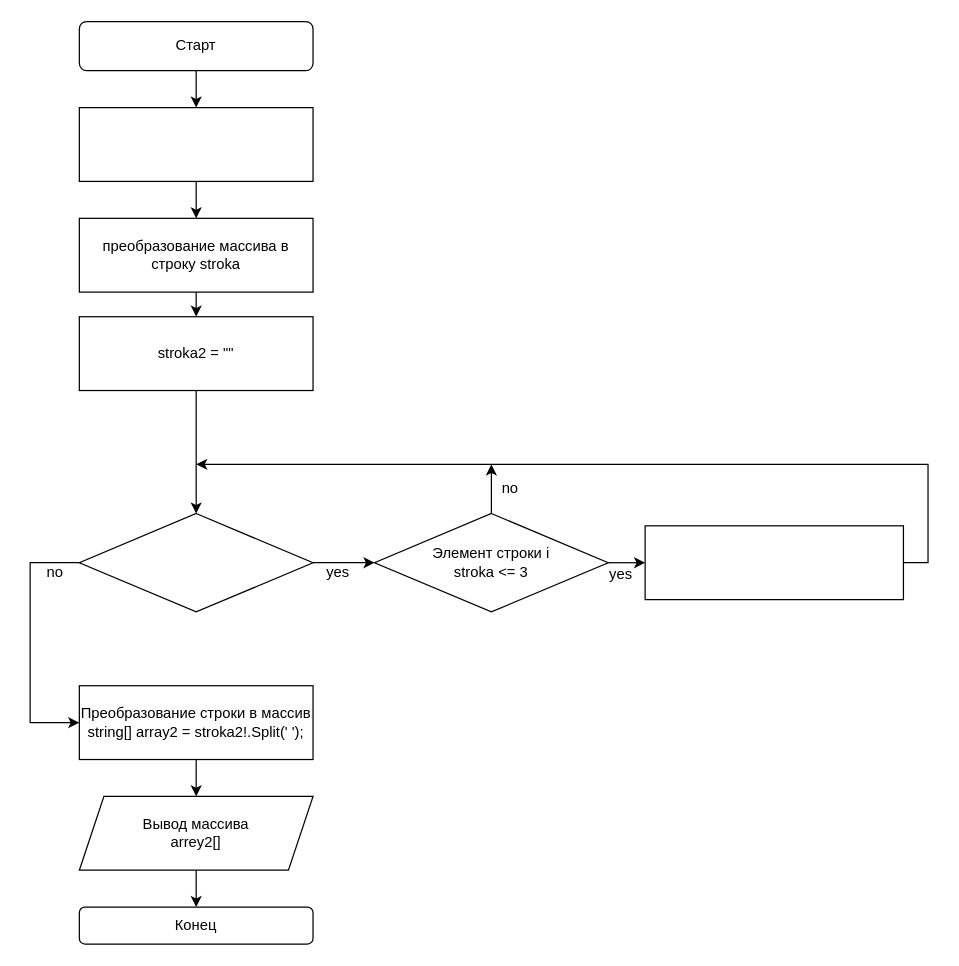
The diagram is 959 pixels wide and 966 high, and some of its shapes have lost their labels. The shapes that lost their labels are listed below. From the top down, each one's box as (x1, y1, x2, y2) in pixels, then its label:
(78, 106, 313, 181): "Введите массив строк через пробел" arr = []
(78, 512, 313, 612): Есть элементы в stroka
(644, 525, 903, 600): Добавит элемент в stroka2 stroka2 = stroka2 + i + " ";
